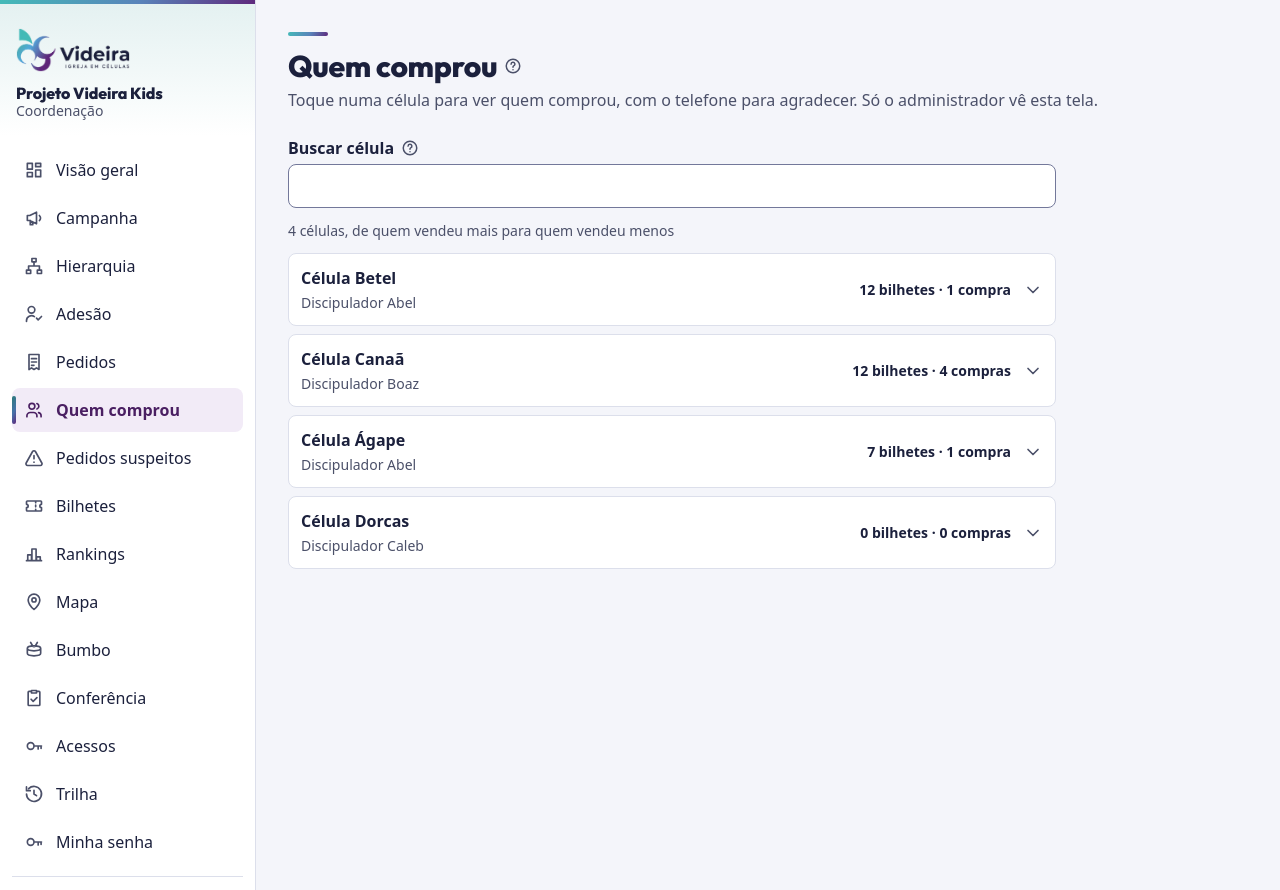
Test: Quem comprou (só o admin) › a busca filtra enquanto digita, sem acento nem maiúscula; sem resultado, 'Limpar busca' volta tudo
Expected: the heading "Quem comprou" is shown, x1=288 y1=48 x2=497 y2=84
In the search field labelled "Buscar célula": x=672, y=186 x1=288 y1=164 x2=1056 y2=208, type "CANAA"
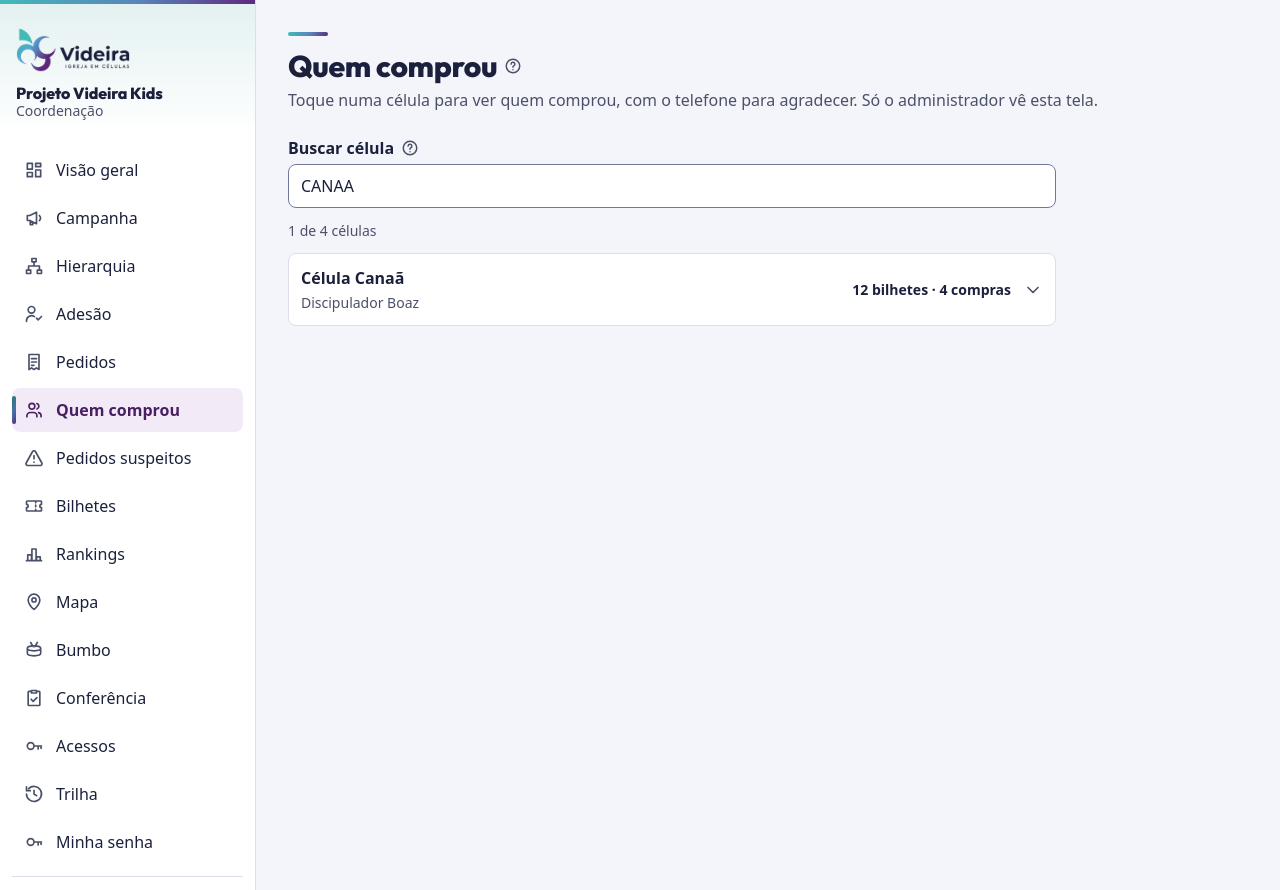
Now the message "1 de 4 células" is shown, box x1=288 y1=221 x2=376 y2=240
Replace the text in the search field labelled "Buscar célula" with "agape": x=672, y=186 x1=288 y1=164 x2=1056 y2=208
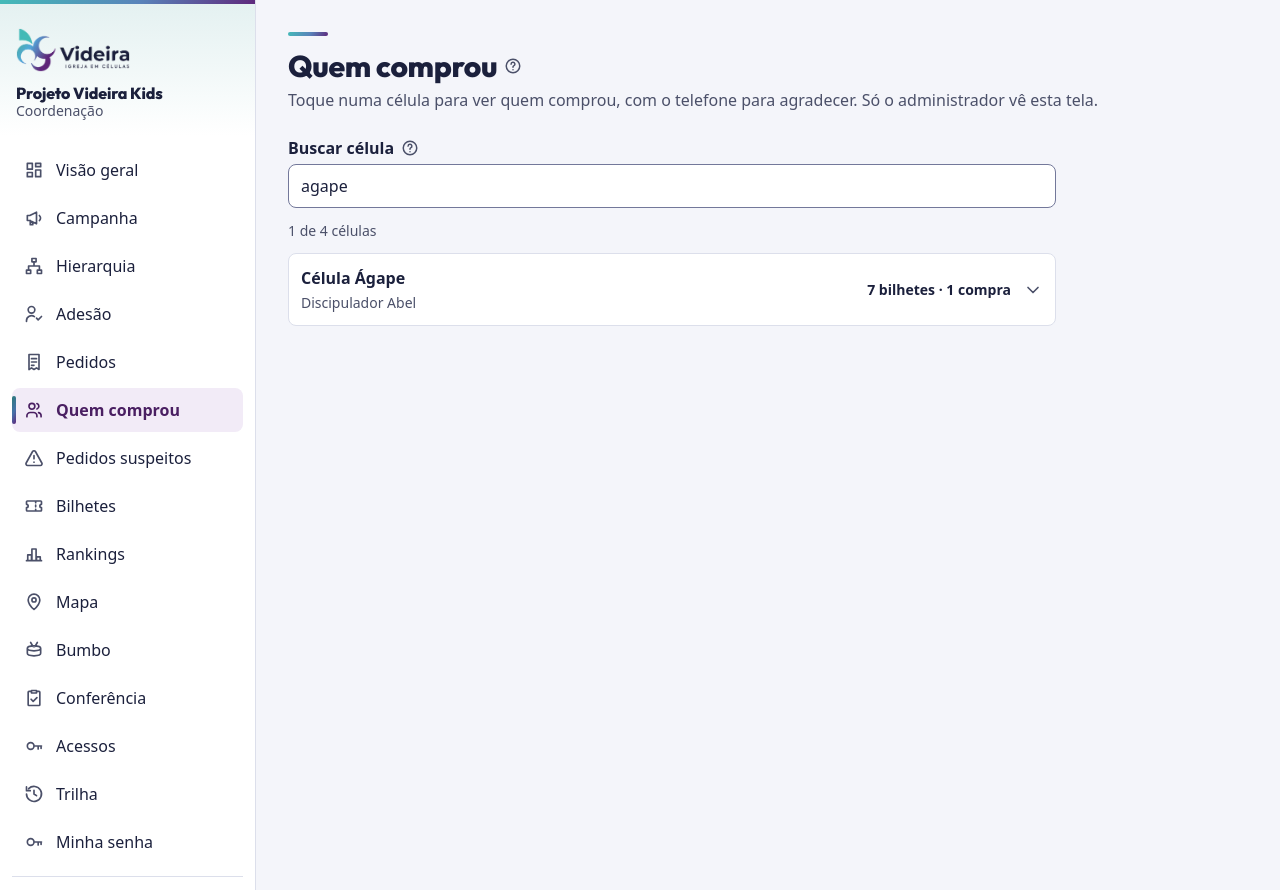
Replace the text in the search field labelled "Buscar célula" with "nenhuma assim": x=672, y=186 x1=288 y1=164 x2=1056 y2=208
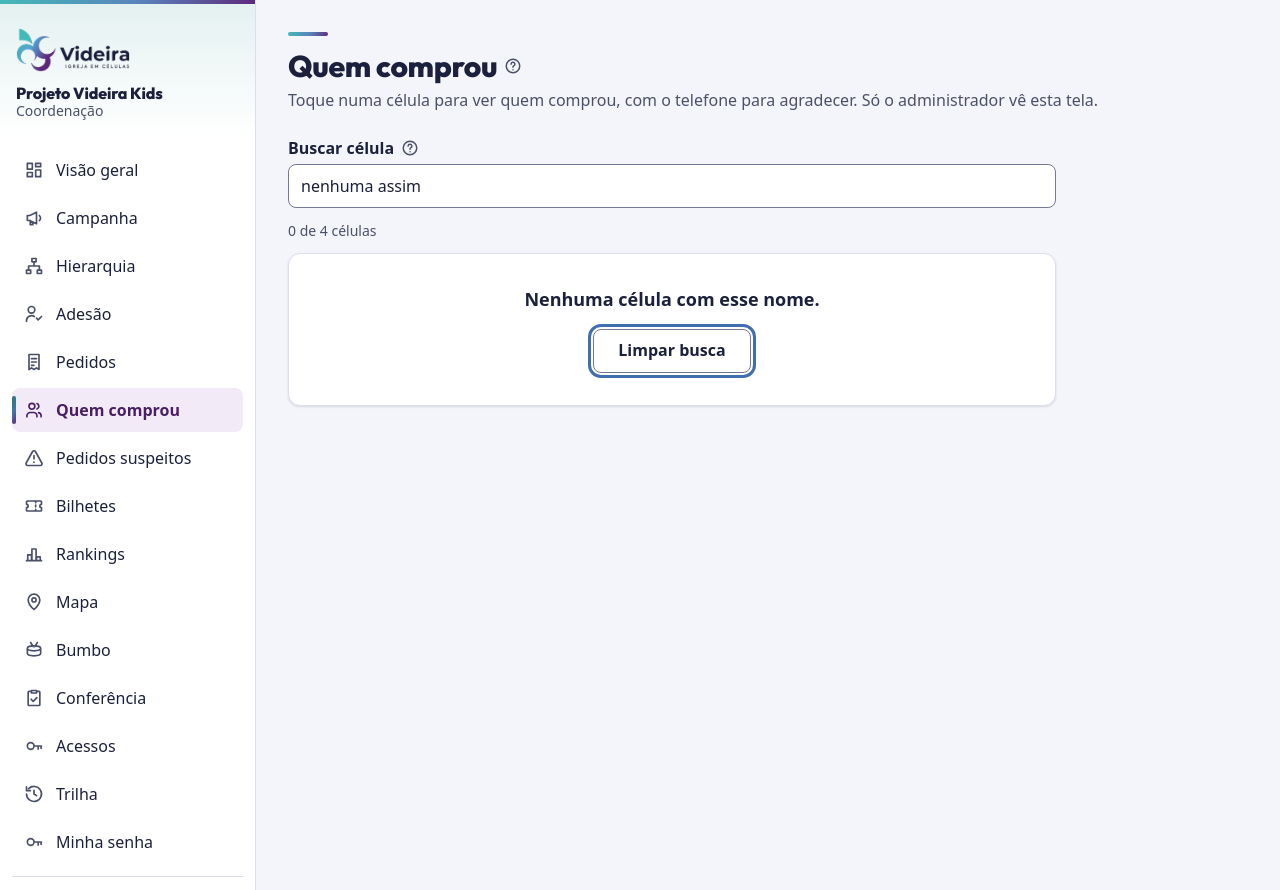
Now the text "Nenhuma célula com esse nome." is shown, box x1=524 y1=286 x2=820 y2=313
Click the button "Limpar busca": x=672, y=351 x1=593 y1=329 x2=751 y2=373
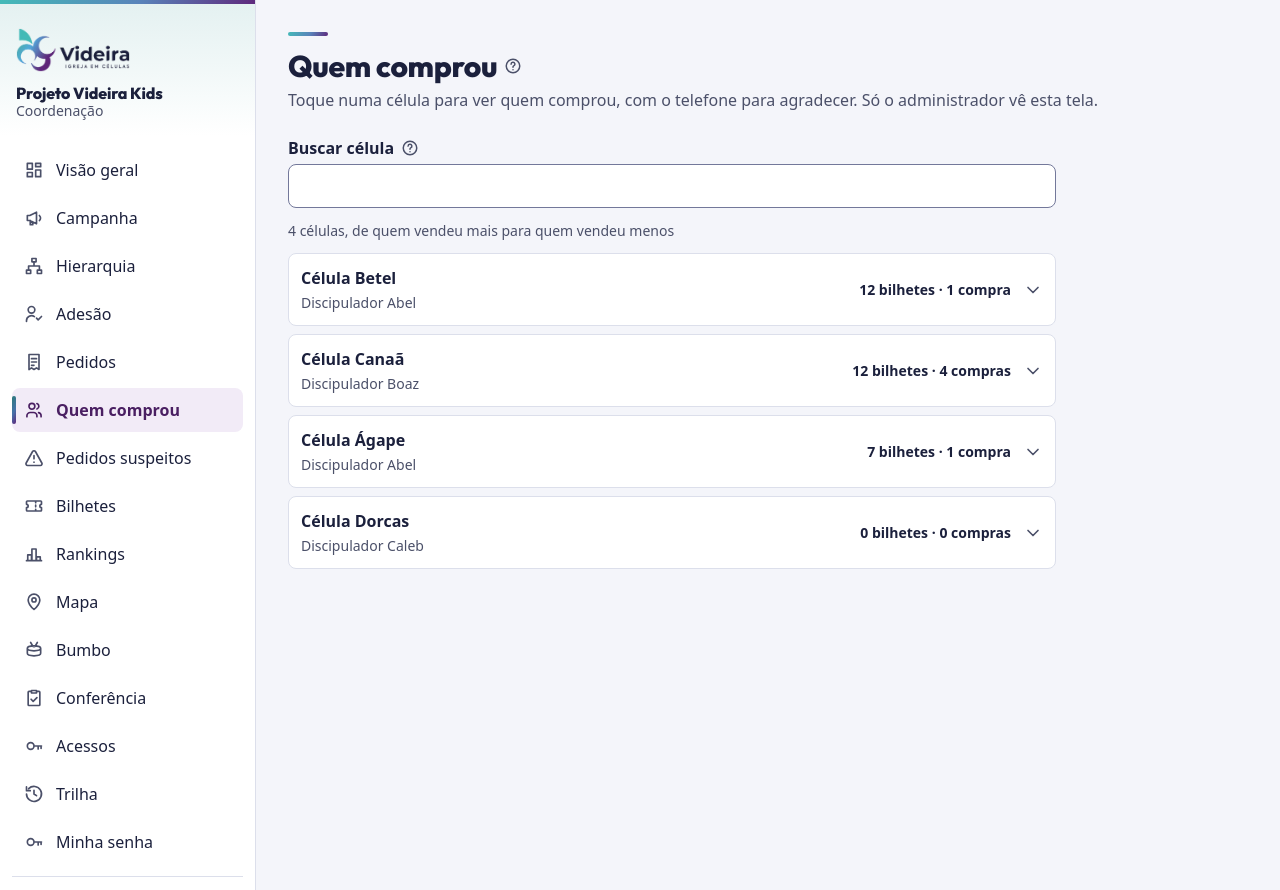
Now the search field labelled "Buscar célula" is empty, box x1=288 y1=164 x2=1056 y2=208
